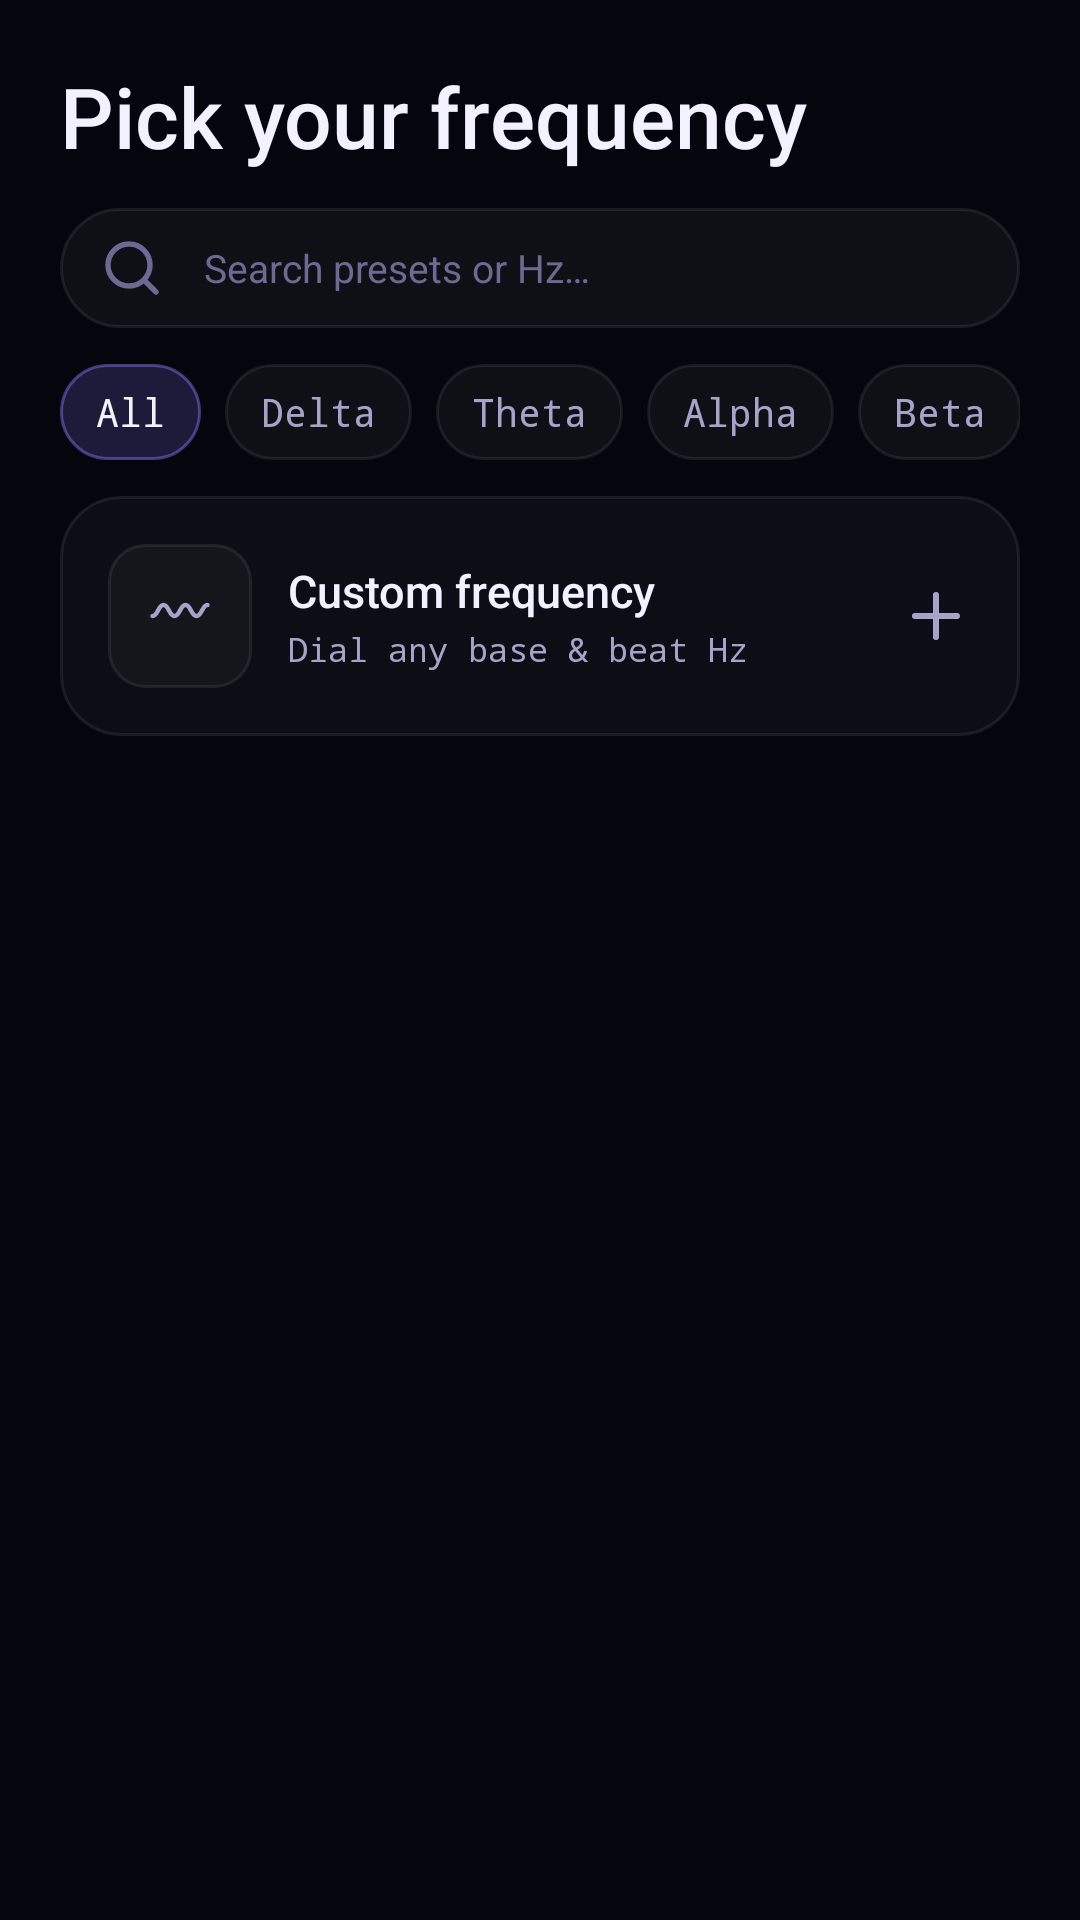

Screen size 1080px×1920px. Icon name, then its center in pixels as [x,y]:
plus: [936,616]
waves: [180,610]
